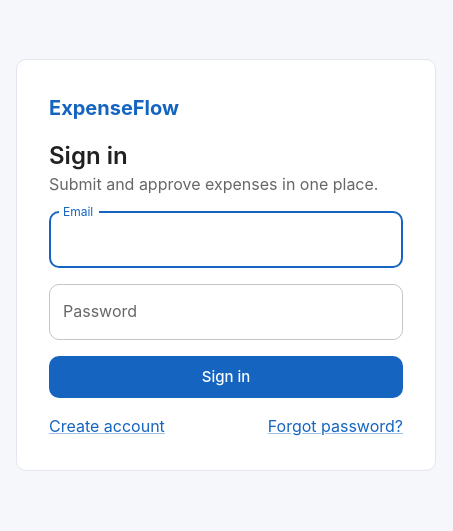
Test: Registration, activation and login › rejects a wrong password
Type "arta@expenseflow.dev" into the field with test id "email".
click(226, 240); type("arta@expenseflow.dev")  # box [49,212,403,268]
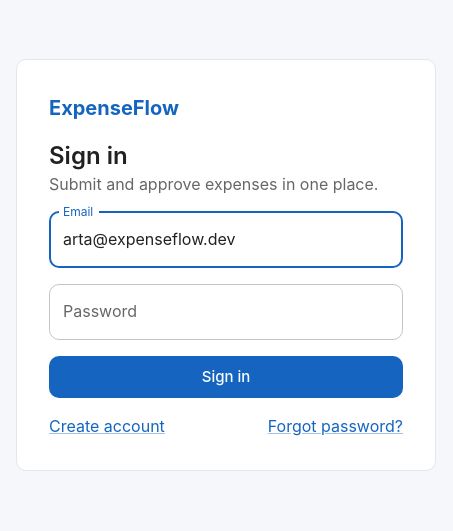
Type "wrong-password" into the password field with test id "password".
click(226, 312); type("wrong-password")  # box [49,284,403,340]
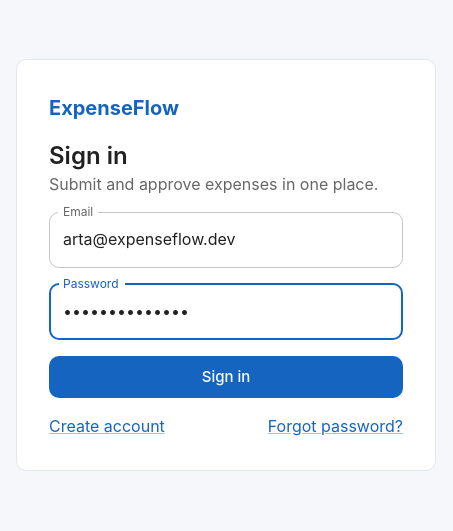
Click the button with test id "login-submit".
click(226, 377)  # box [49,356,403,398]
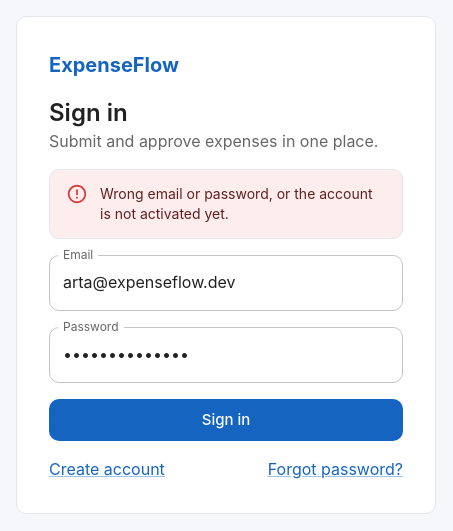
Expected: the text "Wrong email or password" is shown, [100,185,373,222]
